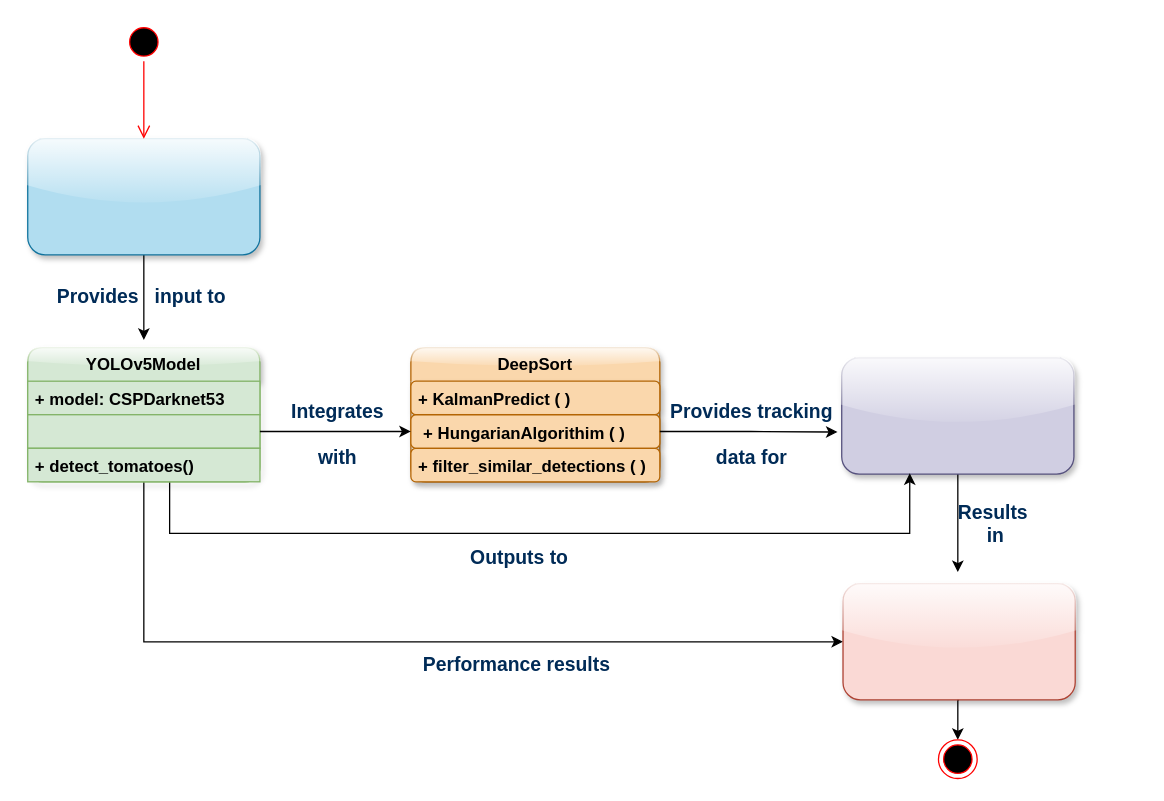
The diagram is 1164 pixels wide and 801 high, and some of its shapes have lost their labels. The centre of each missing label's shape, as x and y in pixels:
"+ train_model()" belongs at pixel 143 430.
"Data Preprocessing + Convert_to_yolo_format() + Process_annotations()" belongs at pixel 144 198.
"ReportsDocumentation generate reports document results" belongs at pixel 960 643.
"TestingValidation + test_data () + validate_model ()" belongs at pixel 958 417.
